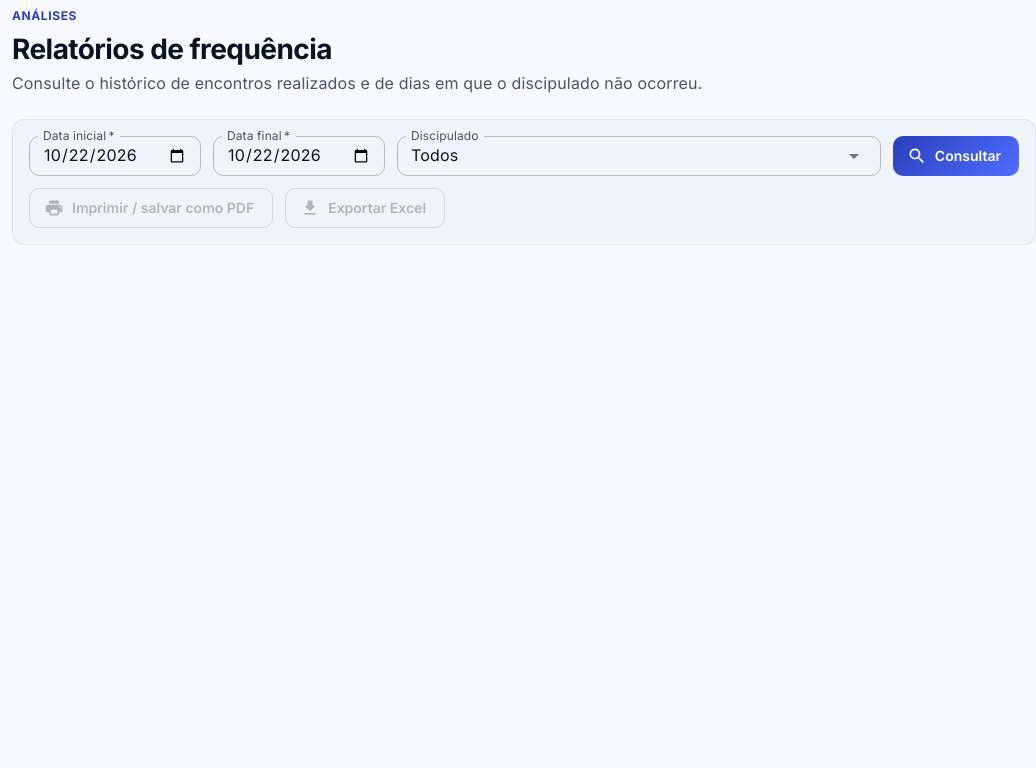
Test: relatório diário de frequência › permite ao gerente filtrar o relatório por discipulado
Replace the text in the dropdown with placeholder "Pesquisar discipulado ou discipulador" with "Líder Alpha" at (609, 156), box [403,142,816,170]
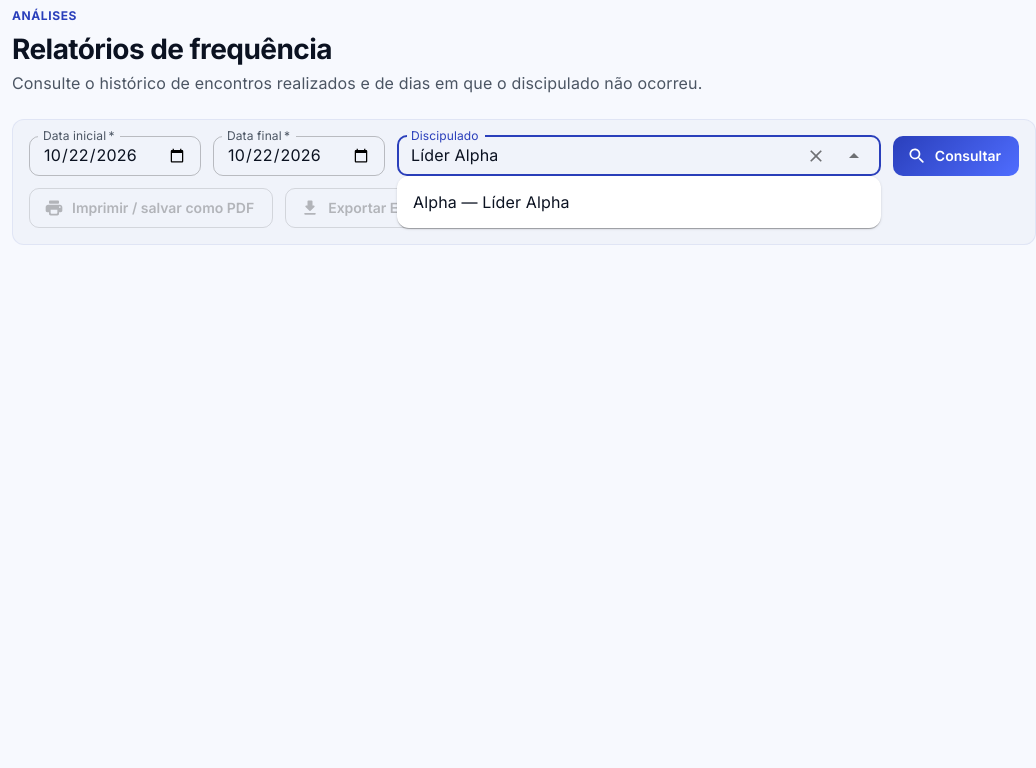
Click the option "Alpha — Líder Alpha" at (491, 202), box [413,192,570,212]
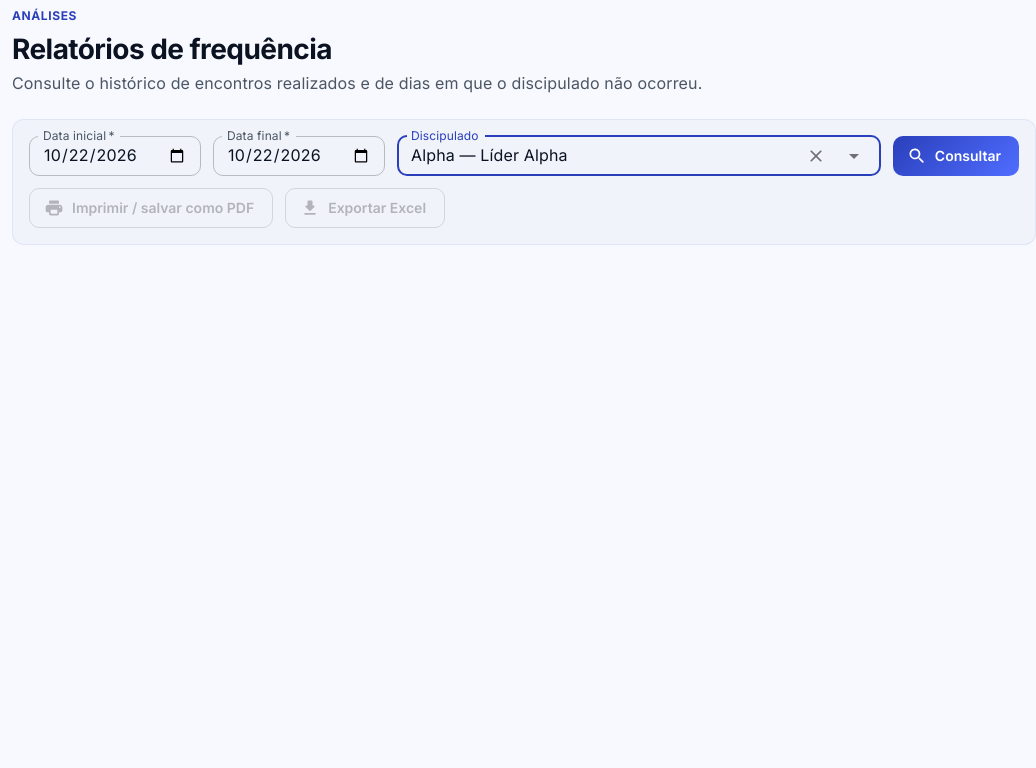
Click the button "Consultar" at (956, 156), box [893,136,1019,176]
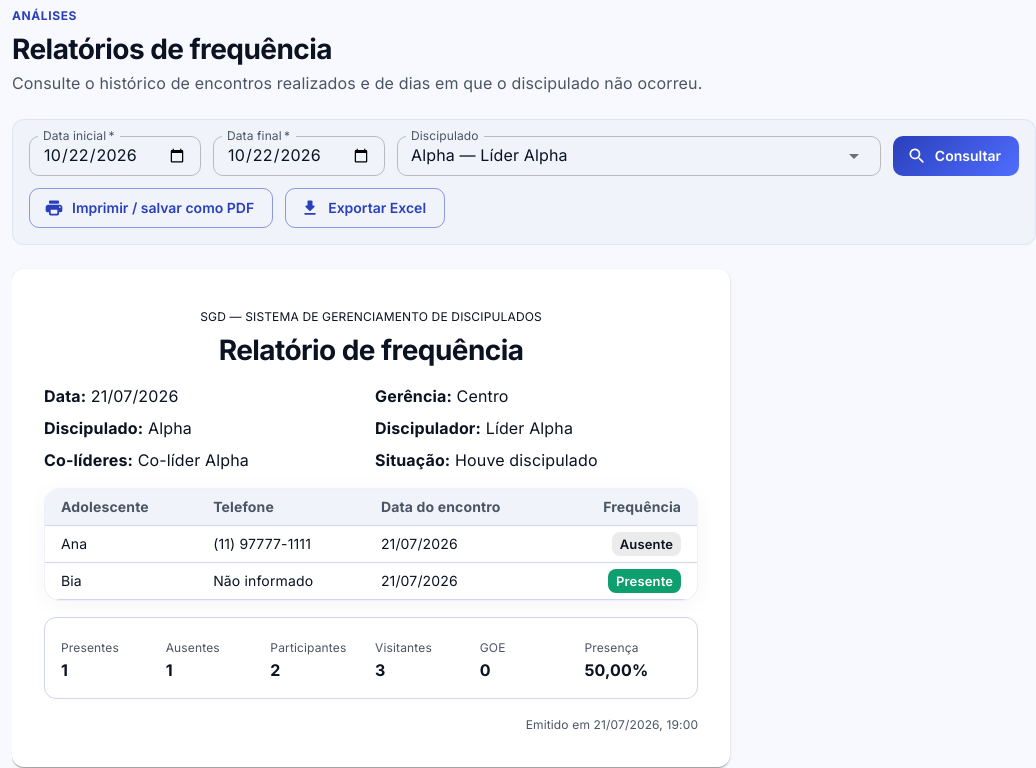
Check: the table named "Frequência do Alpha em 21/07/2026" is shown, box [45,489,697,600]
